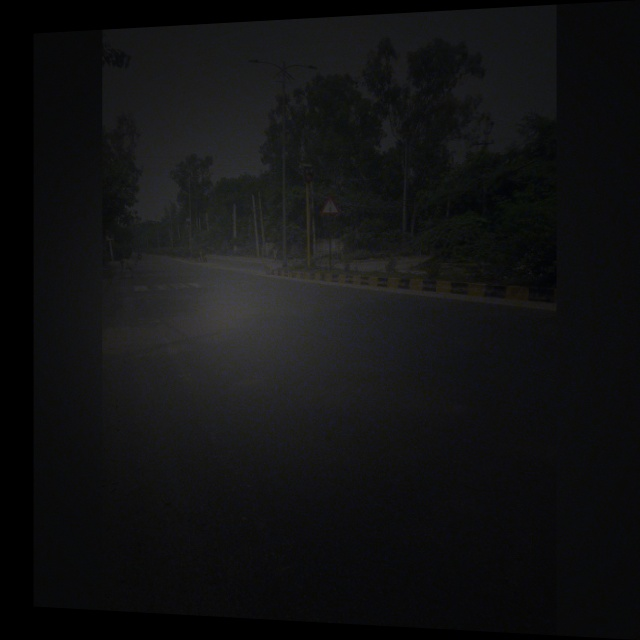Gap_in_Median: (319, 191, 341, 217)
